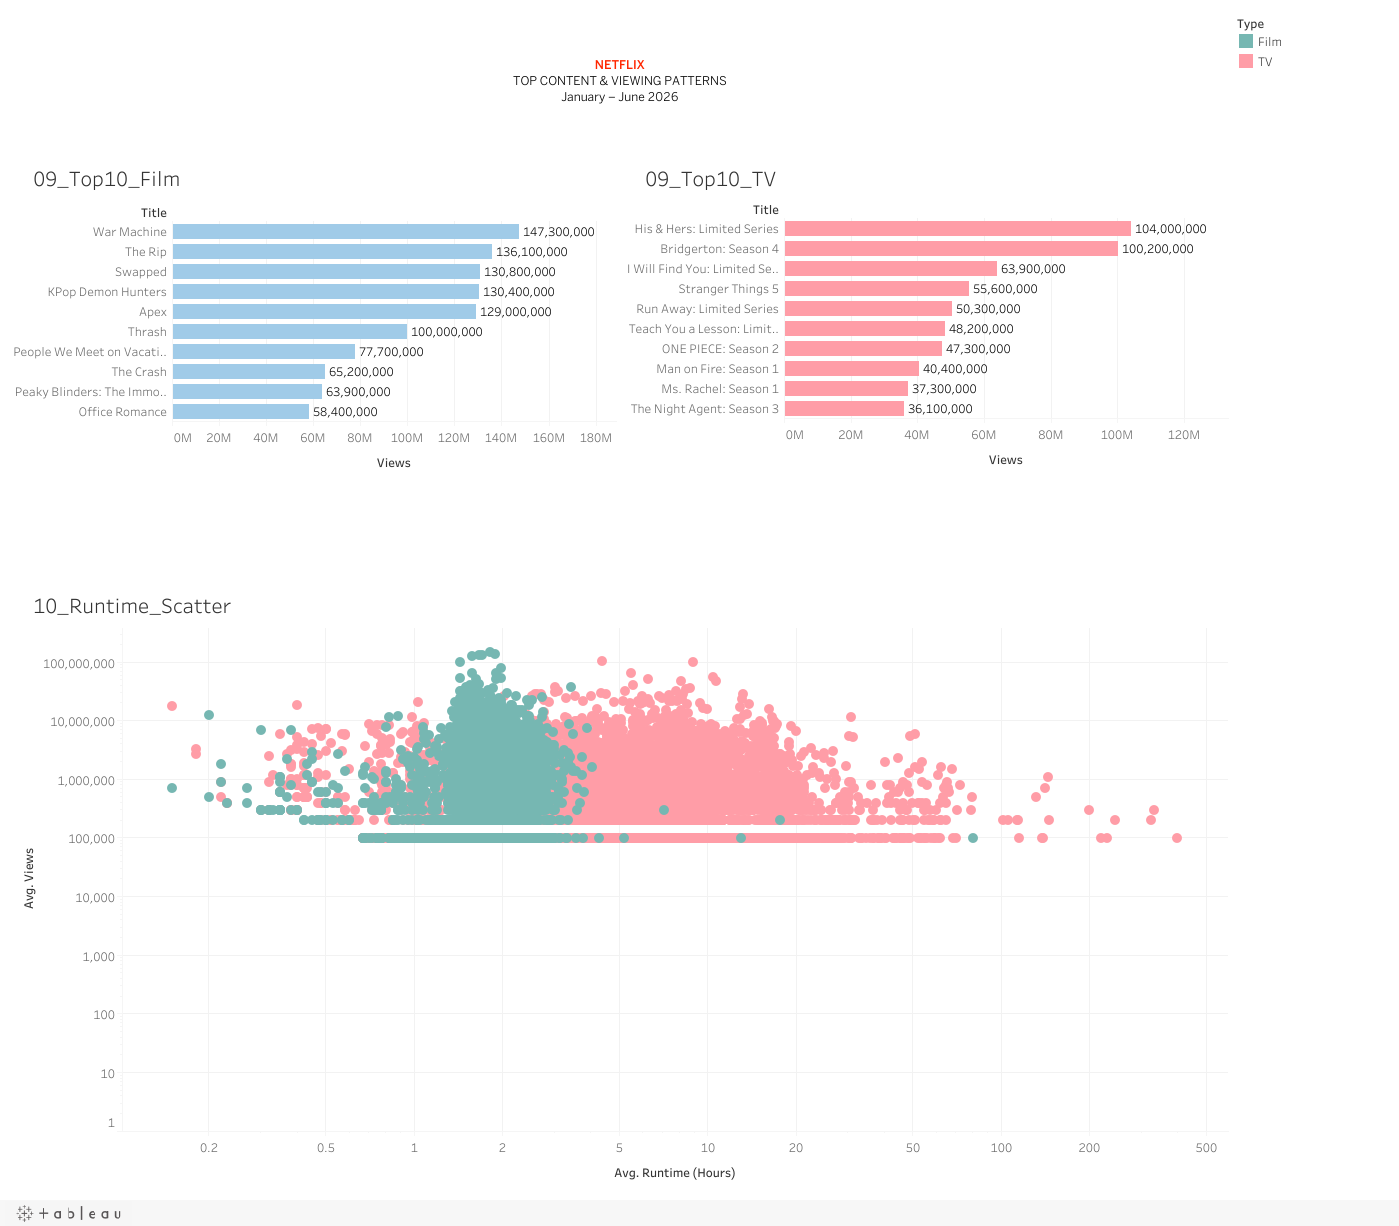

Layout of this report page (visuals, bound fields, positions):
{"tool":"tableau","page":{"name":"Dashboard_Details","canvas":[1400,1200],"ordinal":0},"visuals":[{"type":"text","box":[8,8,1224,146]},{"type":"legend","title":"    10_Runtime_Scatter","param":"[federated.1ahkcv310ndovv1chbhmp1nbbw6h].[none:Type:nk]","box":[1232,8,160,66]},{"type":"worksheet","title":"    09_Top10_Film","mark":"Bar","rows":["Title"],"cols":["Views"],"box":[8,154,612,427]},{"type":"worksheet","title":"    09_Top10_TV","mark":"Bar","rows":["Title"],"cols":["Views"],"box":[620,154,612,427]},{"type":"worksheet","title":"    10_Runtime_Scatter","mark":"Circle","rows":["Views"],"cols":["Runtime (Hours)"],"box":[8,581,1224,611]}]}

Visuals, with their boxes on the page's 1400x1200 design canvas (x1, y1, x2, y2). These are canvas units, not pixel positions in the 1399x1226 screenshot, which may show the page scaled, cropped or inside an application window:
text: (8, 8, 1232, 154)
"    10_Runtime_Scatter" legend: (1232, 8, 1392, 74)
"    09_Top10_Film" worksheet (Bar marks): (8, 154, 620, 581)
"    09_Top10_TV" worksheet (Bar marks): (620, 154, 1232, 581)
"    10_Runtime_Scatter" worksheet (Circle marks): (8, 581, 1232, 1192)
